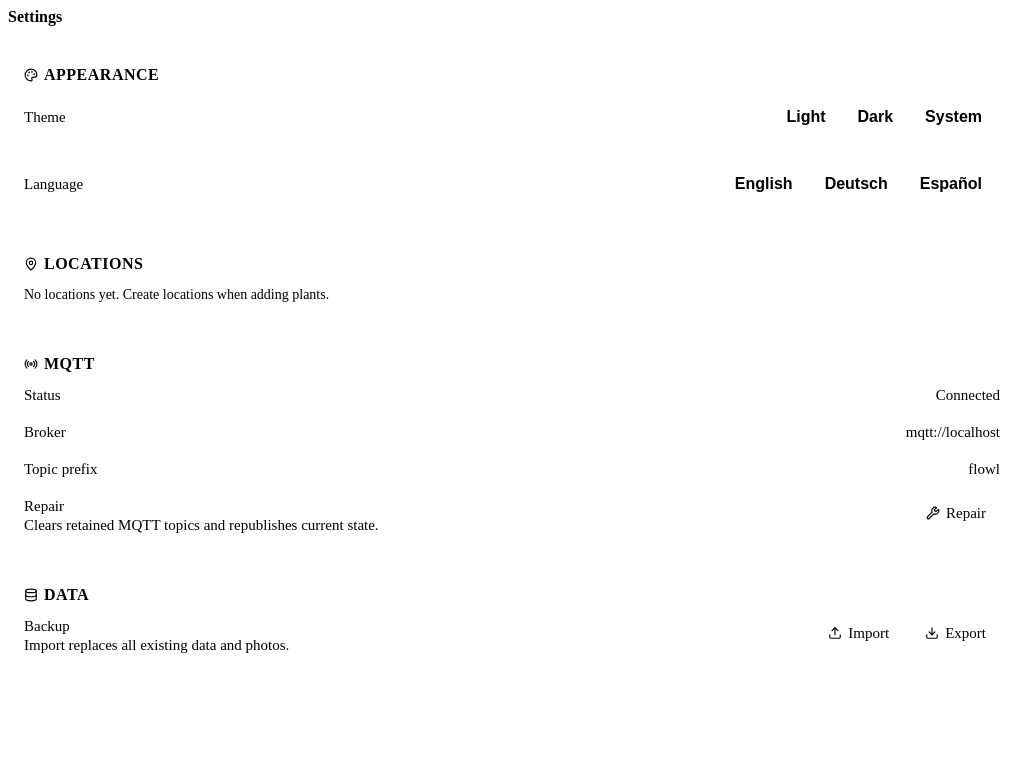
Test: settings MQTT repair confirmation › shows confirmation dialog when repair is clicked
The width and height of the screenshot is (1024, 768).
Click the button "Repair".
click(956, 513)  # box [912,498,1000,528]
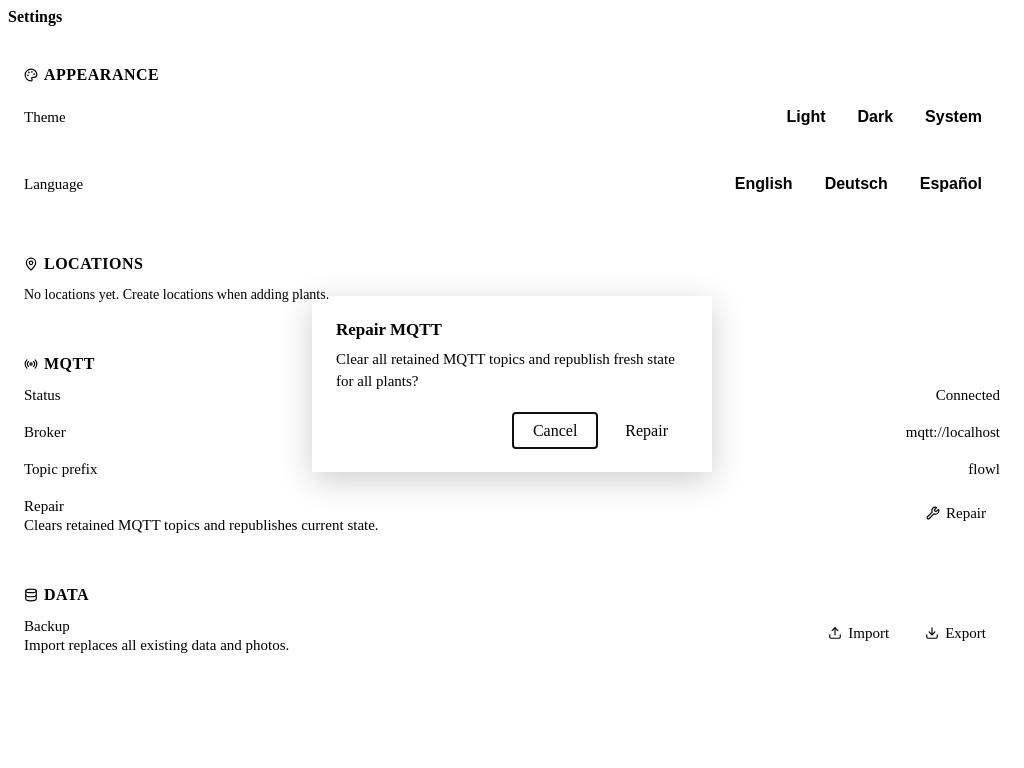
Now the text "Clear all retained MQTT topics" is shown, box [336,351,675,389]
